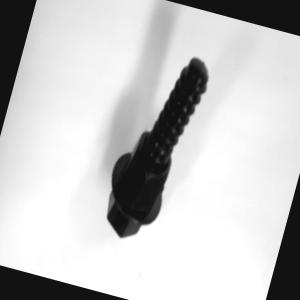parafuso: (93, 40, 214, 250), (94, 41, 214, 250)
